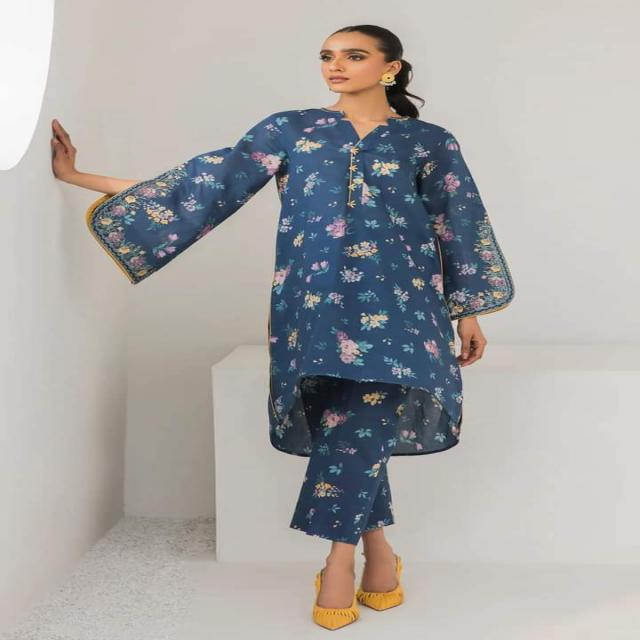female-dress: (153, 113, 489, 543)
